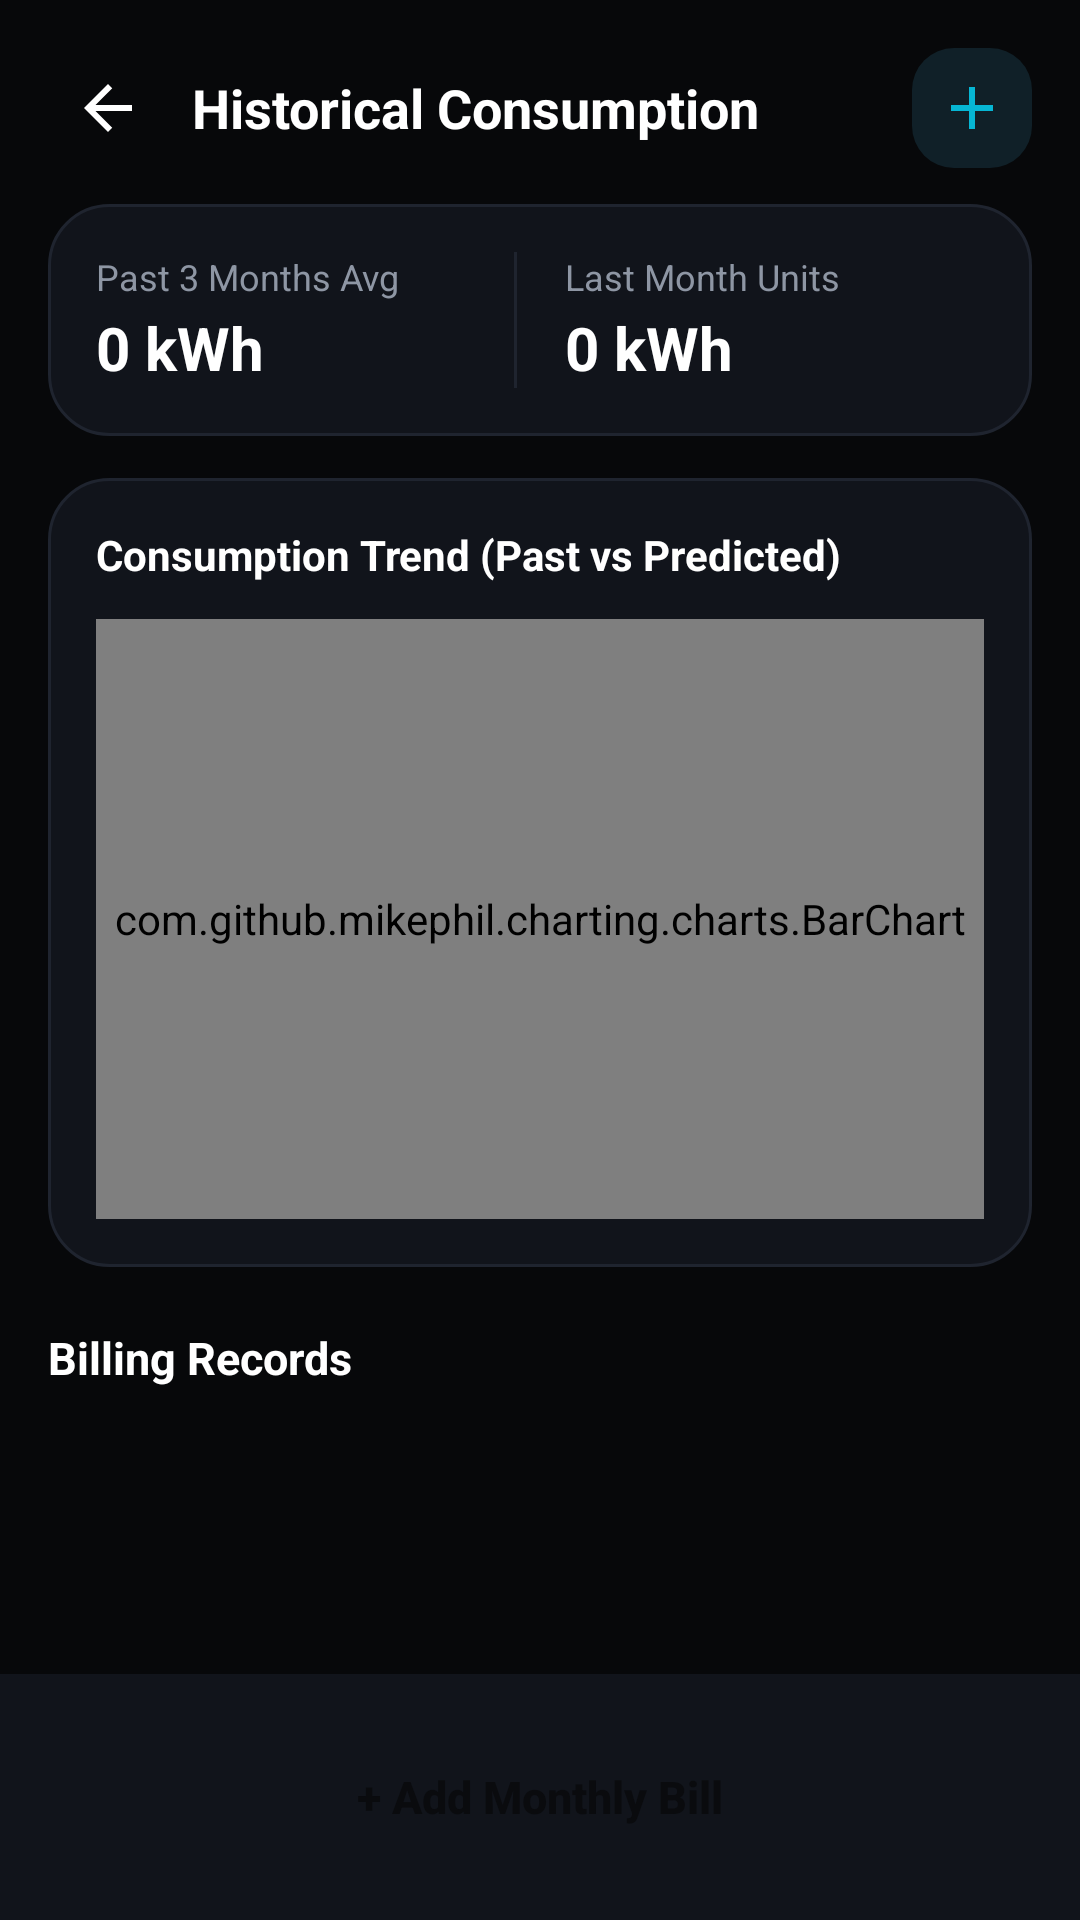

Icon click points for this 1080*1920 phone screenshot, format (x,y):
add: (972,108)
arrow back: (108,108)
